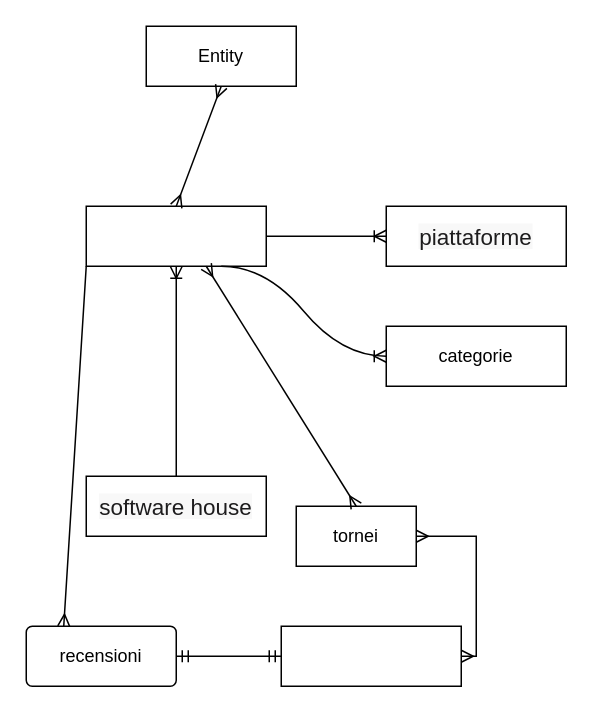
Image size: 593x713. Some labels were removed from this diagram. Each missing label, with the centre of its shape:
"videogame" goes at point 175,235.
"videogiocatori" goes at point 370,655.
